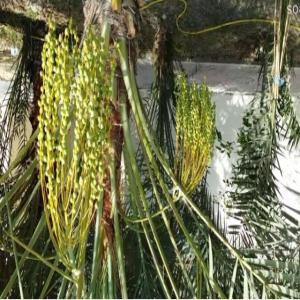palm tree: (0, 0, 299, 298)
